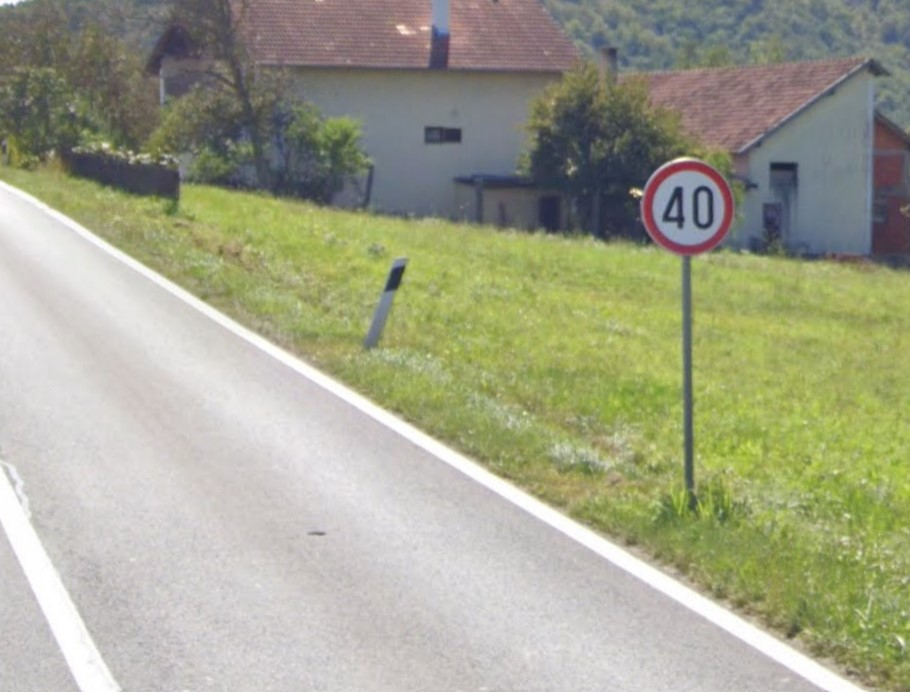Ograničenje brzine 40: (642, 161, 733, 255)
